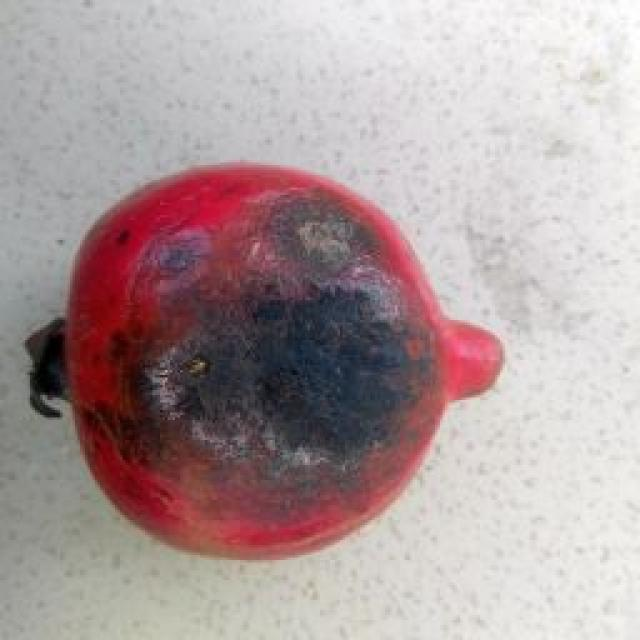Rotten: (25, 152, 509, 568)
